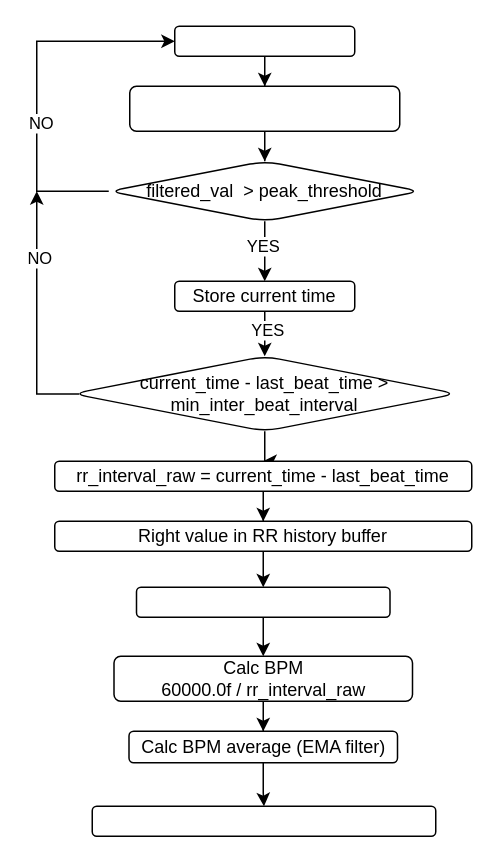
Image size: 498x863. Some labels were removed from this diagram. The shapes that lost their labels are listed below. From the top down, each one's box as (x1, y1, x2, y2) in pixels, then its label:
(173, 25, 355, 56): Store last beat time
(128, 85, 400, 131): Set threshold = 0..8 x max peak
(135, 586, 390, 617): Calc RR average (EMA filter)
(91, 805, 436, 836): last_beat_time = current_time
